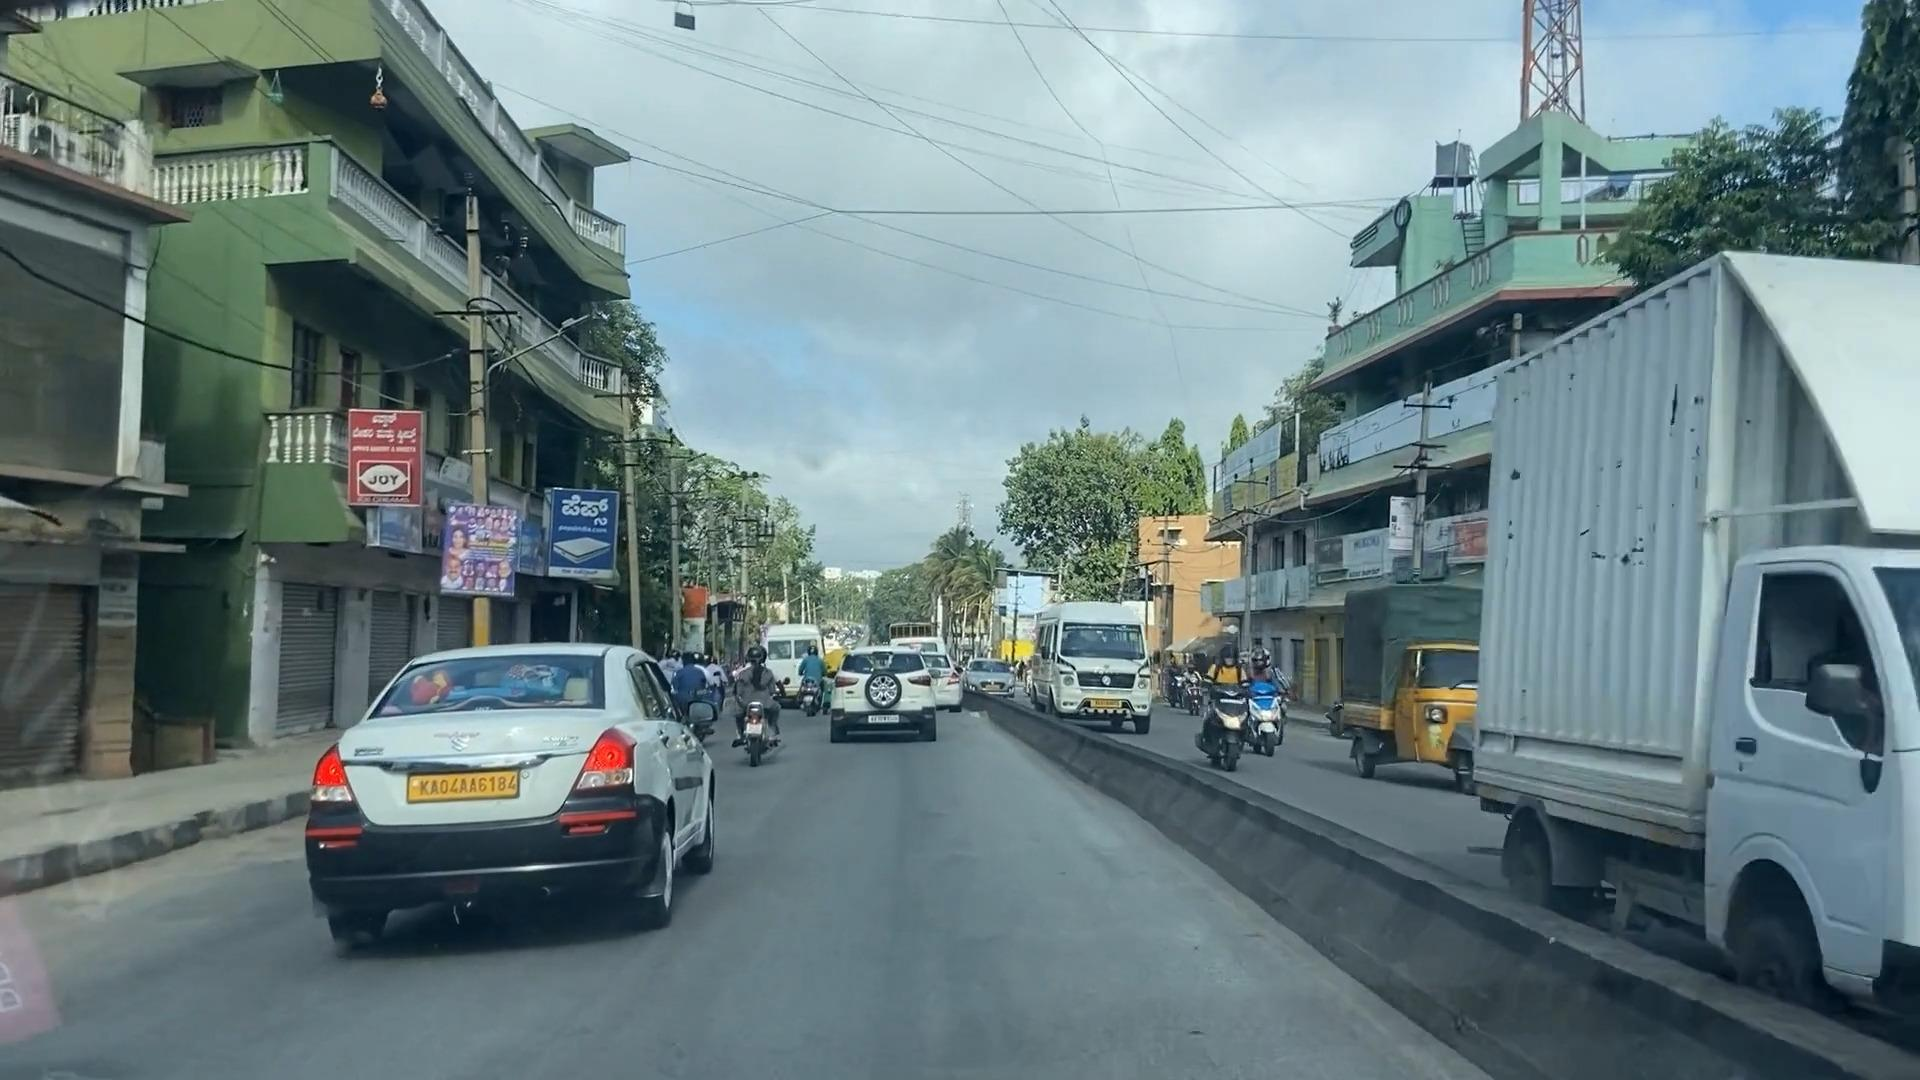LMV: (310, 651, 720, 948), (832, 651, 938, 744), (740, 641, 781, 766)
